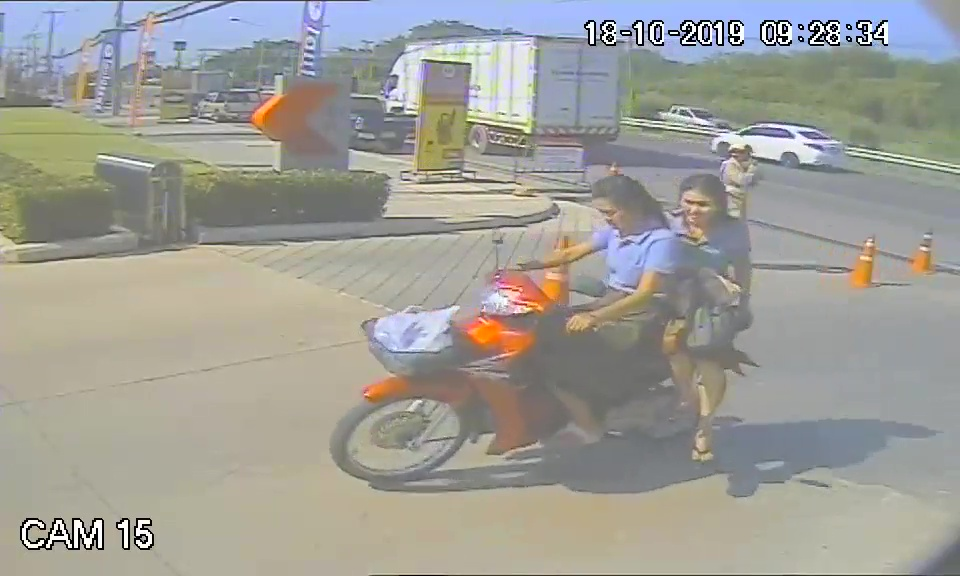motorcycle: (327, 263, 753, 486)
